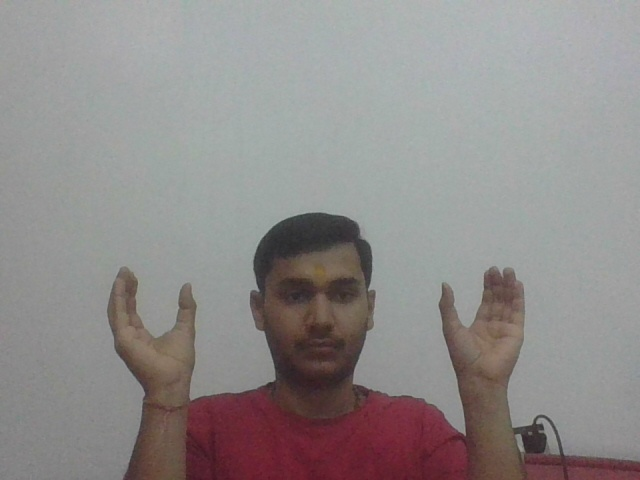U: (106, 260, 200, 392), (439, 259, 533, 387)
